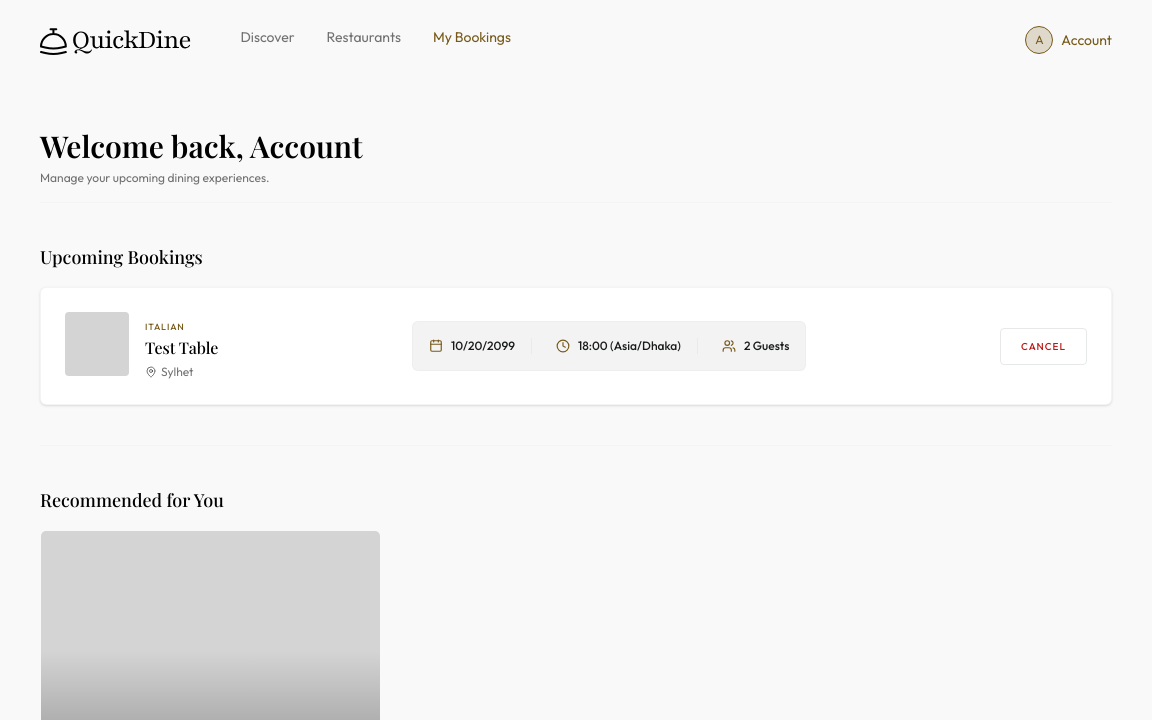
Test: complete page journeys › diner cancellation decline makes no request and server failure keeps reservation
Click the button "Cancel" at {"x": 1044, "y": 346}, box [1000,328,1087,364]
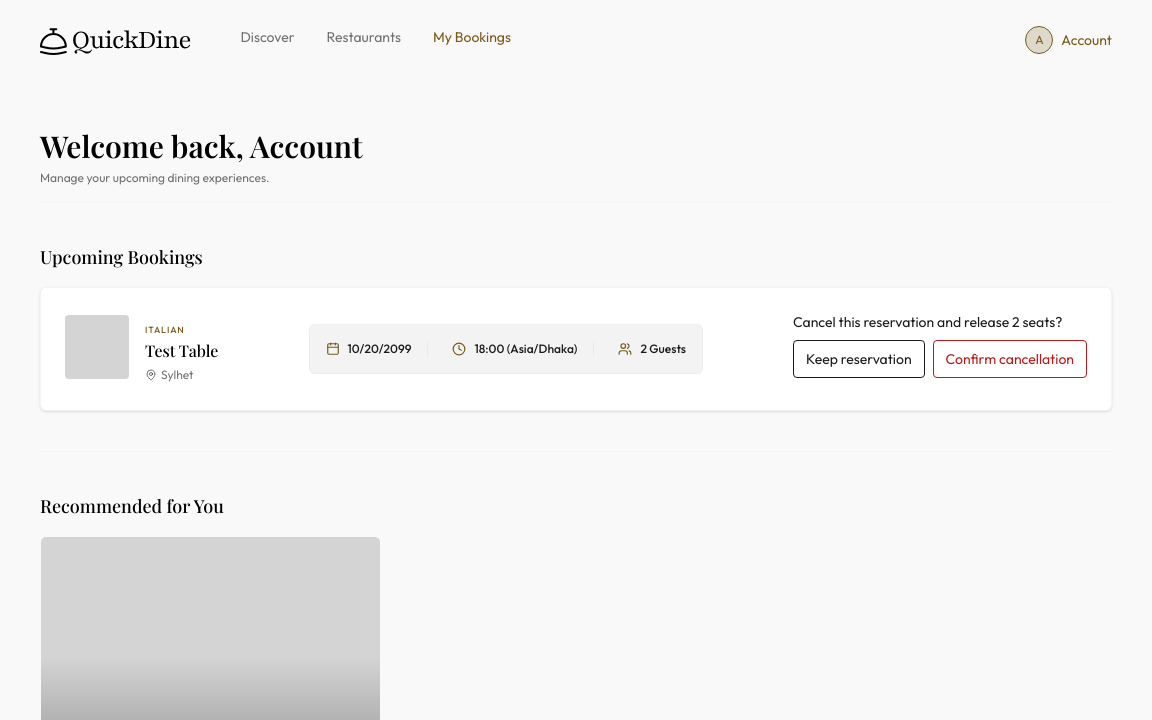
Click the button "Keep reservation" at {"x": 859, "y": 359}, box [793,340,925,378]
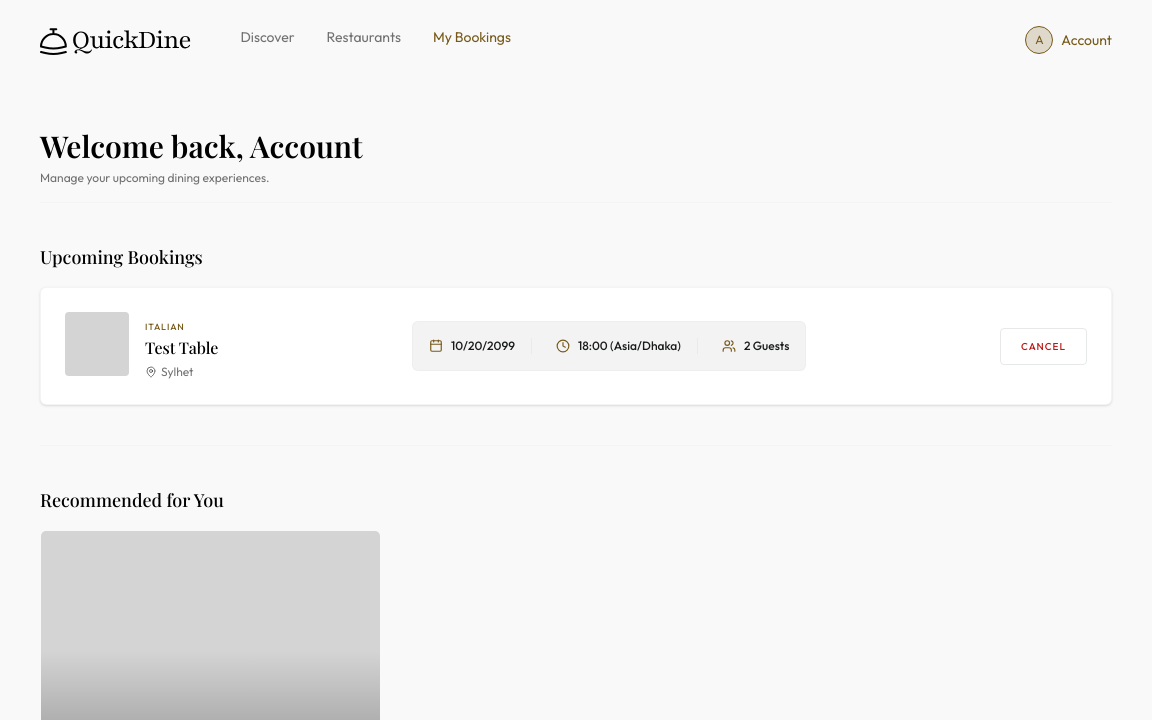
expect the text "Cancel failed" is not shown: met
Click the button "Cancel" at {"x": 1044, "y": 346}, box [1000,328,1087,364]
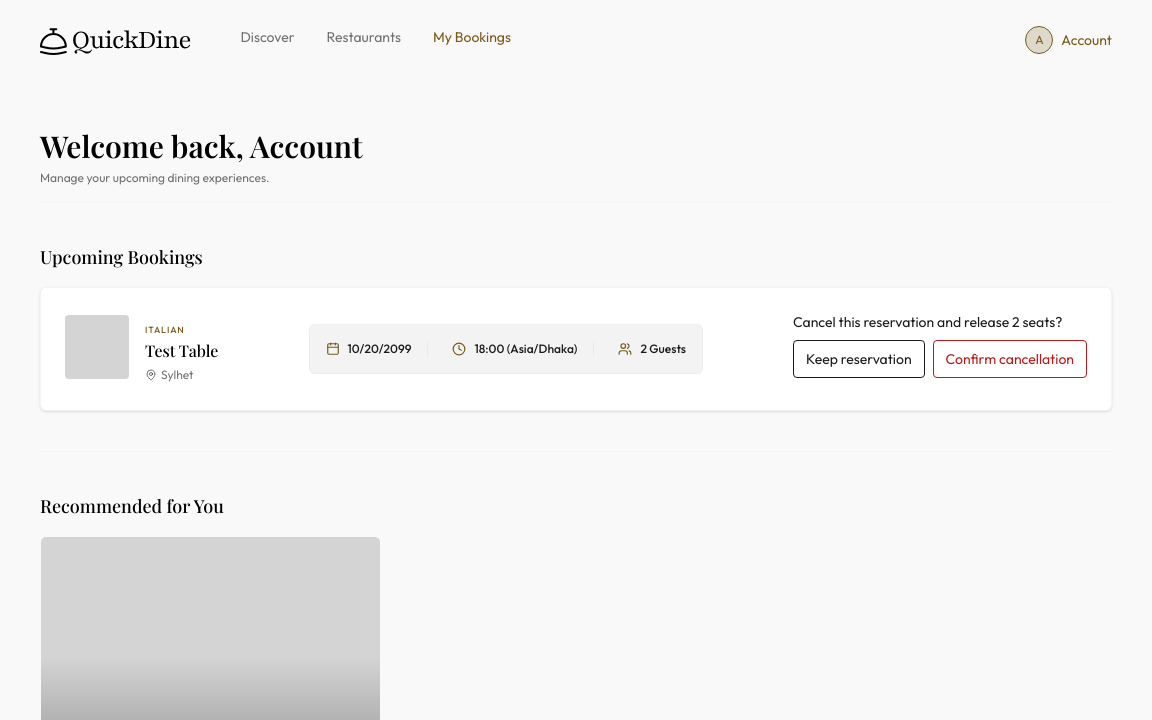
Click the button "Confirm cancellation" at {"x": 1010, "y": 359}, box [933,340,1087,378]
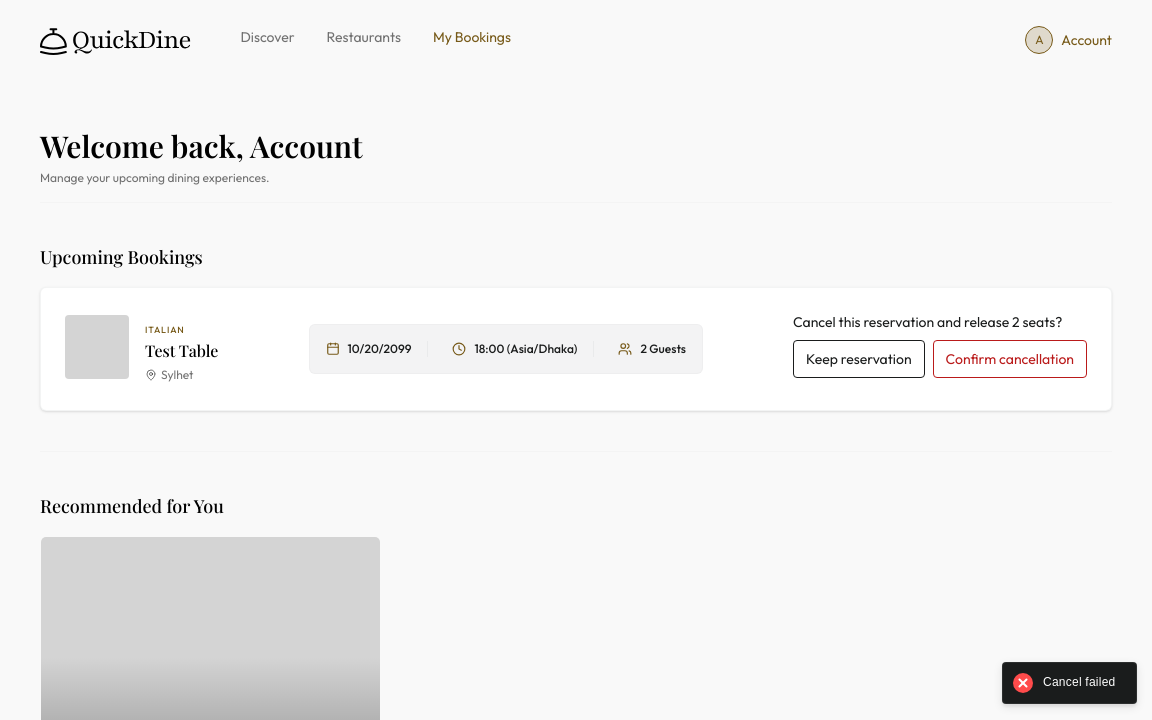
expect the button "Confirm cancellation" is shown: met, box [933,340,1087,378]
expect the text "Cancel failed" is shown: met, box [1042,675,1115,691]
